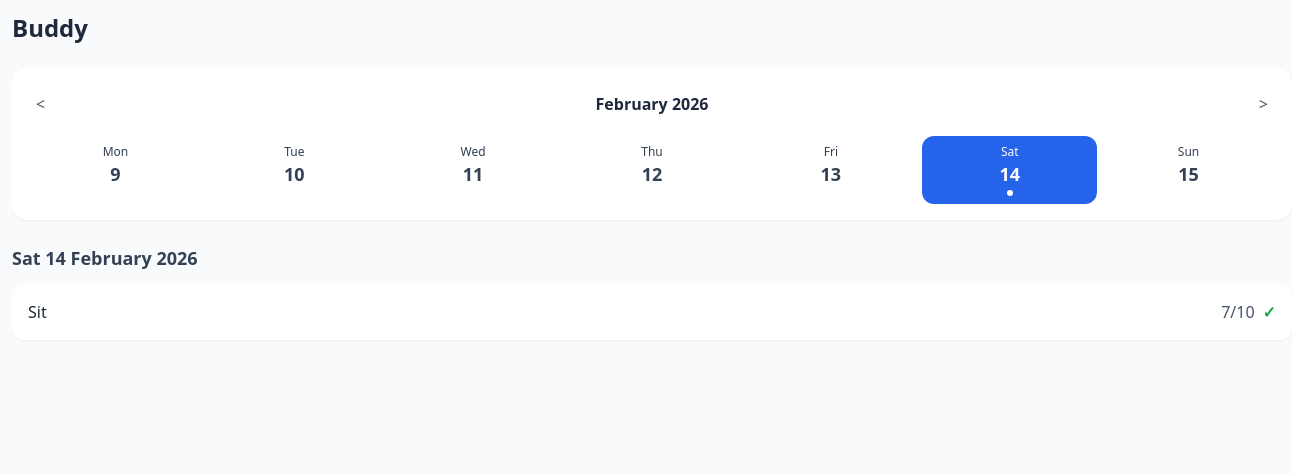
it: Progress › clicking a completed session expands it
Note: Click the session card
Click the text "Sit": (37, 312) [28,300,47,324]
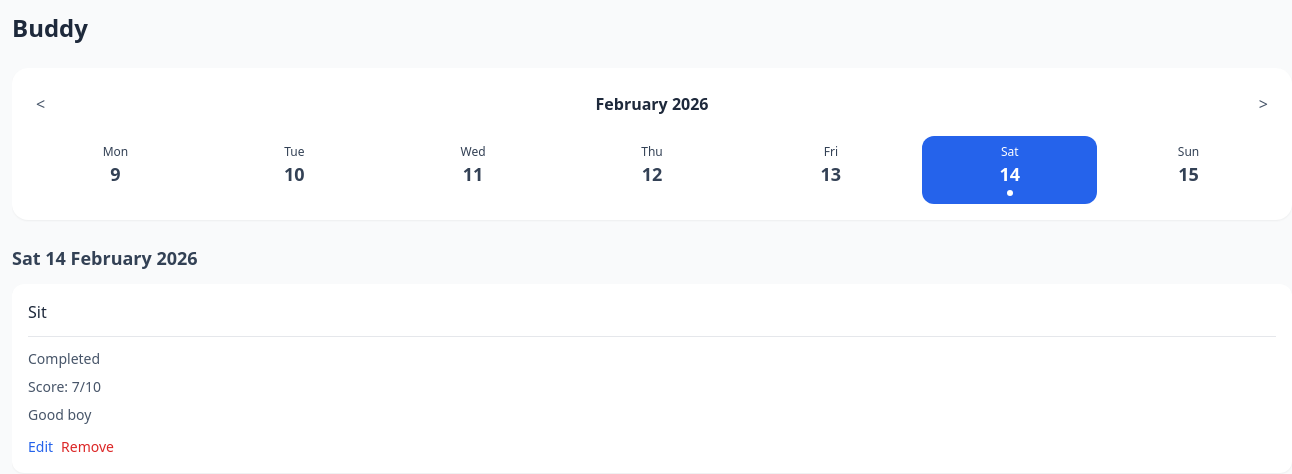
Now the text "Completed" is shown, box [28,349,100,368]
Now the text "Score: 7/10" is shown, box [28,377,101,396]
Now the text "Good boy" is shown, box [28,405,91,424]
